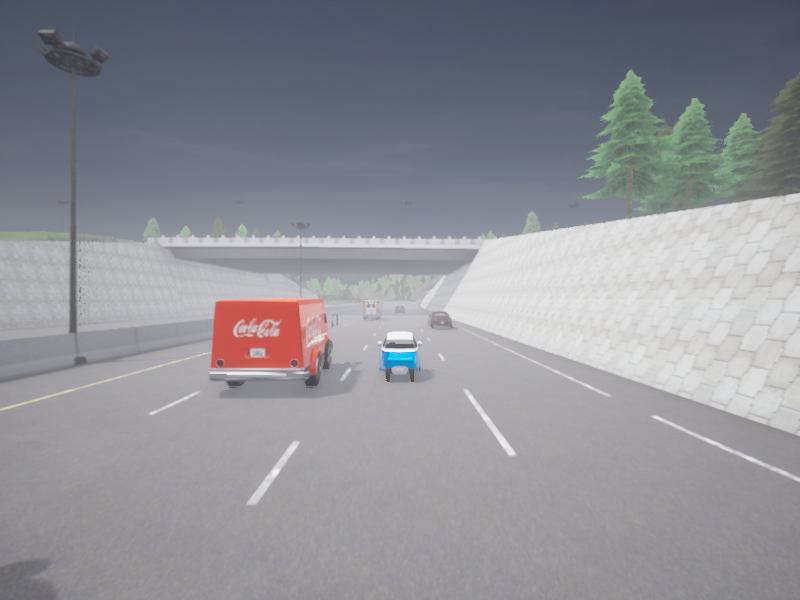vehicle: (209, 298, 337, 386), (378, 332, 421, 380), (427, 311, 453, 327), (362, 300, 383, 318), (395, 306, 404, 312)
